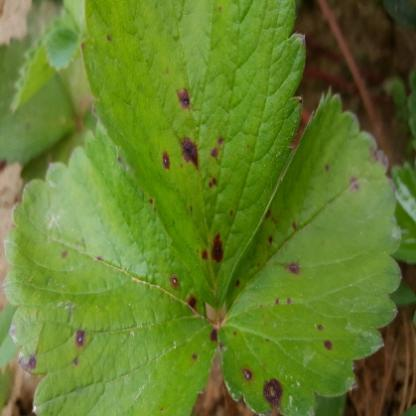Strawberry_Leaf_Spot: (78, 0, 308, 311), (0, 118, 218, 415), (217, 84, 404, 416), (0, 33, 83, 168)
